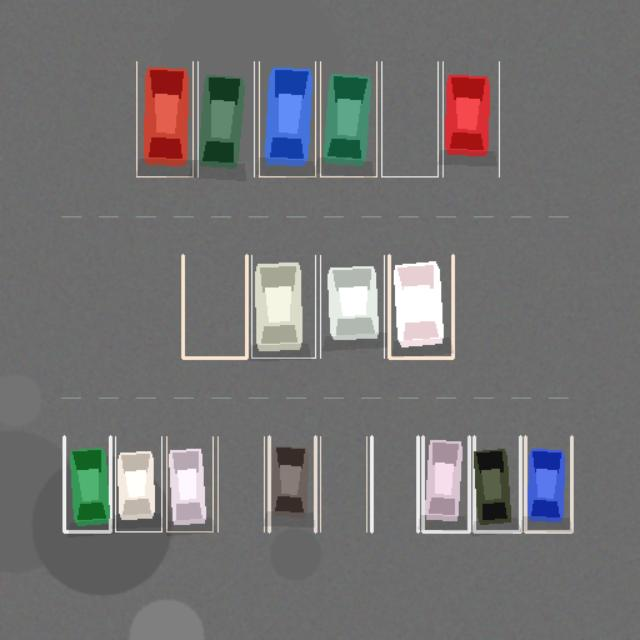space-empty: (183, 255, 246, 358), (381, 61, 437, 176), (371, 436, 418, 531), (218, 436, 264, 531), (320, 436, 366, 531)
space-occupied: (251, 255, 315, 358), (320, 255, 384, 358), (389, 255, 453, 358), (136, 61, 193, 176), (197, 61, 254, 176), (259, 61, 315, 176), (320, 61, 376, 176), (443, 61, 499, 176), (422, 436, 469, 531), (64, 436, 110, 531), (115, 436, 161, 531), (166, 436, 212, 531), (269, 436, 315, 531), (474, 436, 520, 531), (525, 436, 571, 531)
